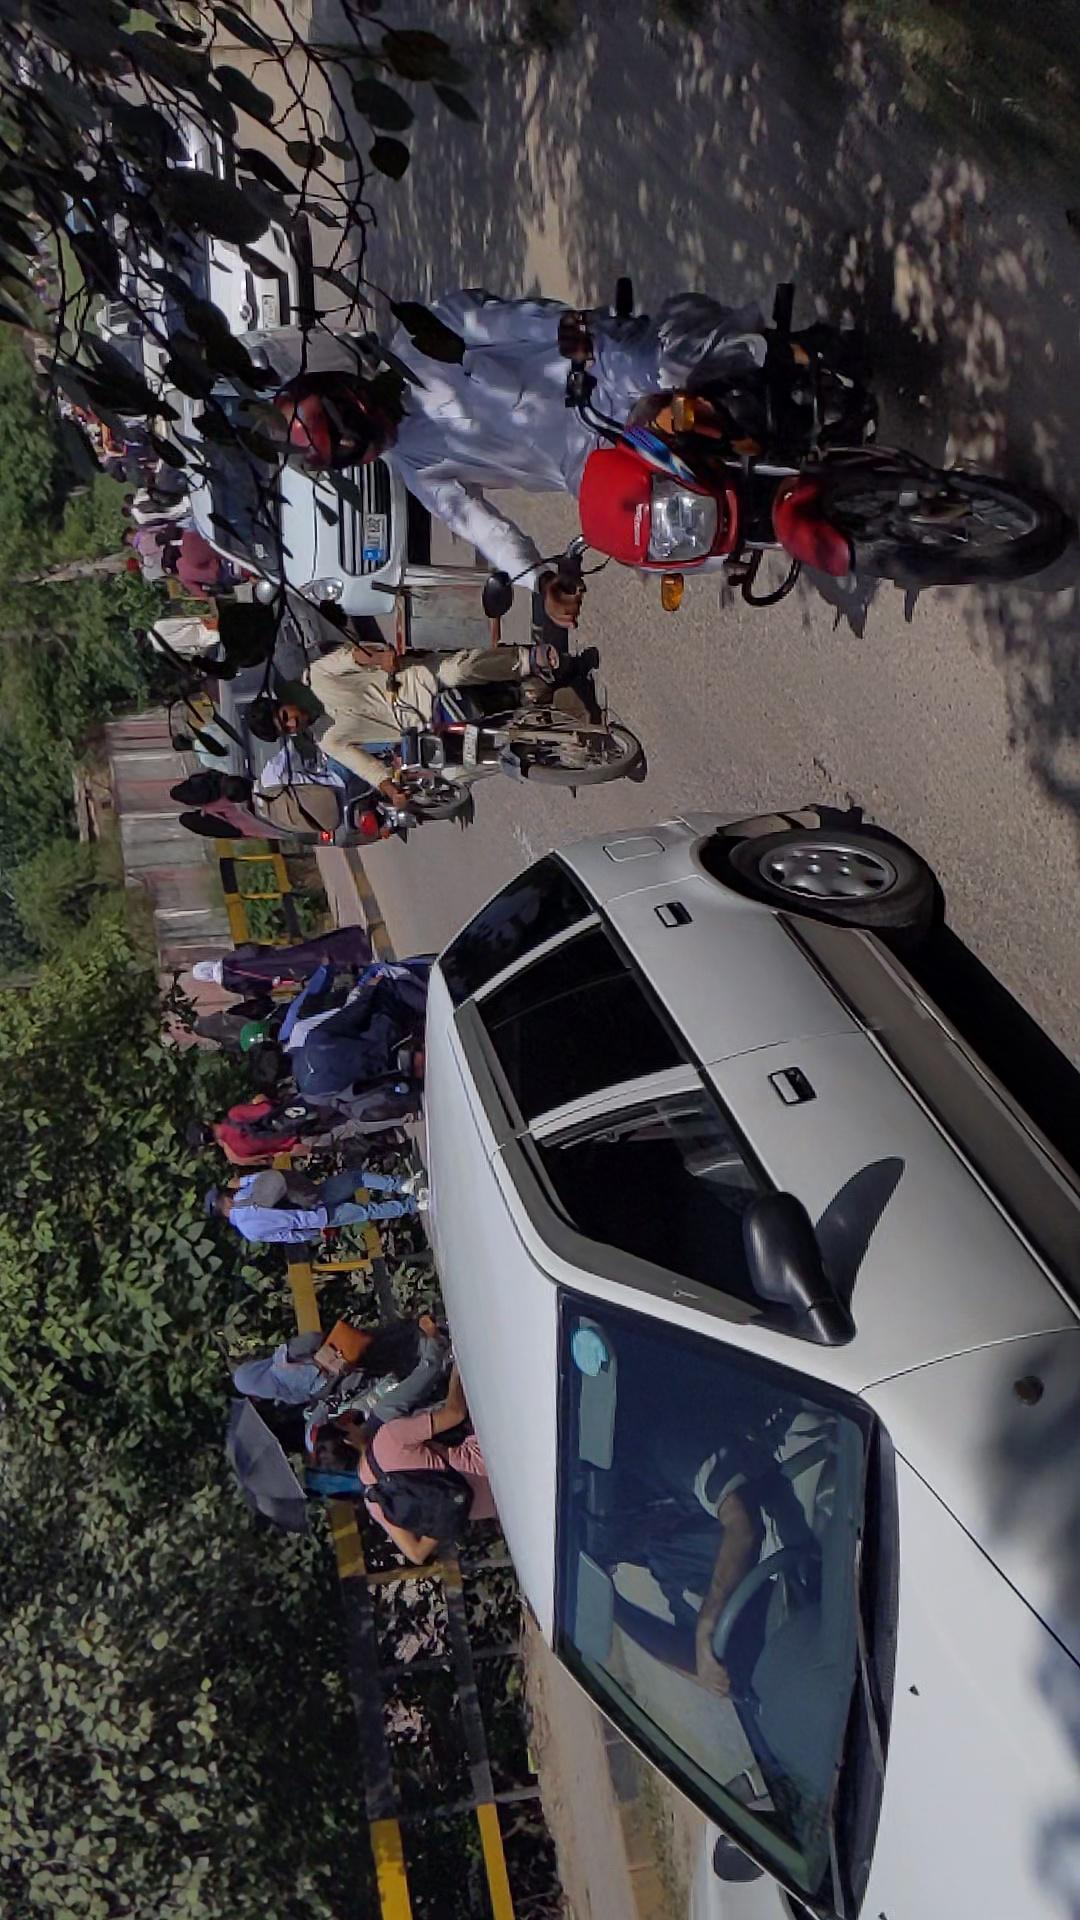windshield: (0, 931, 371, 1623)
